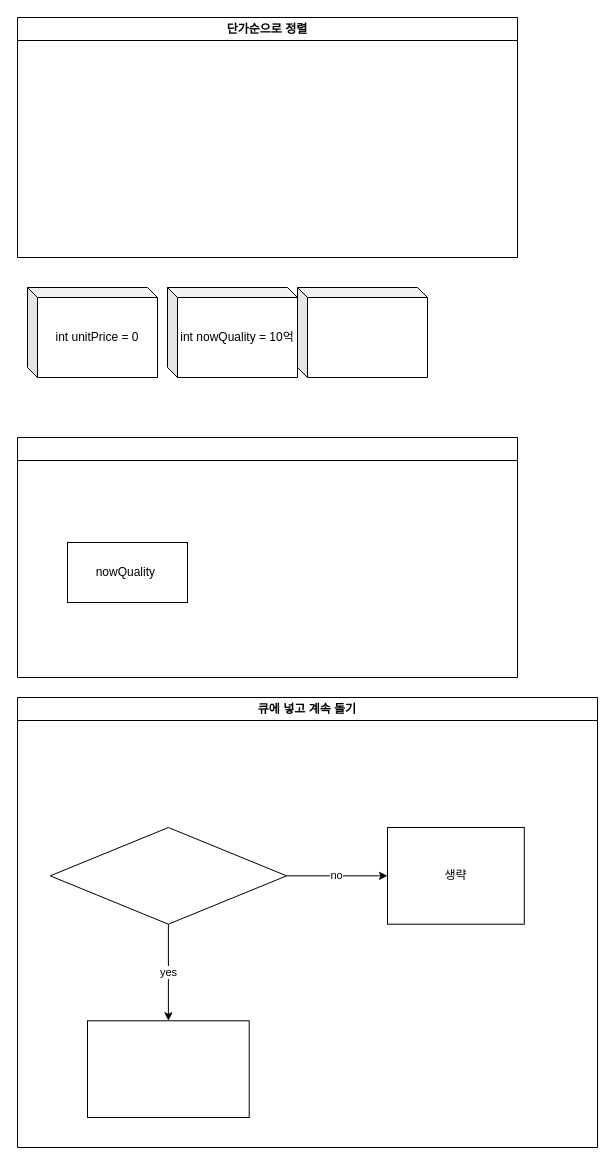
This 615x1165 diagram has some shape labels left out. The box of each missing label's shape, as (x1, y1, x2, y2) in pixels:
nowQuality -= Q.top() Q.pop(): (86, 1020, 249, 1118)
단가 낮은 큐에 넣기: (16, 436, 518, 678)
이전 총 비용 ( 이전 단가 * 이전 총 용량 )이 지금보다 높은가?: (49, 826, 287, 924)
